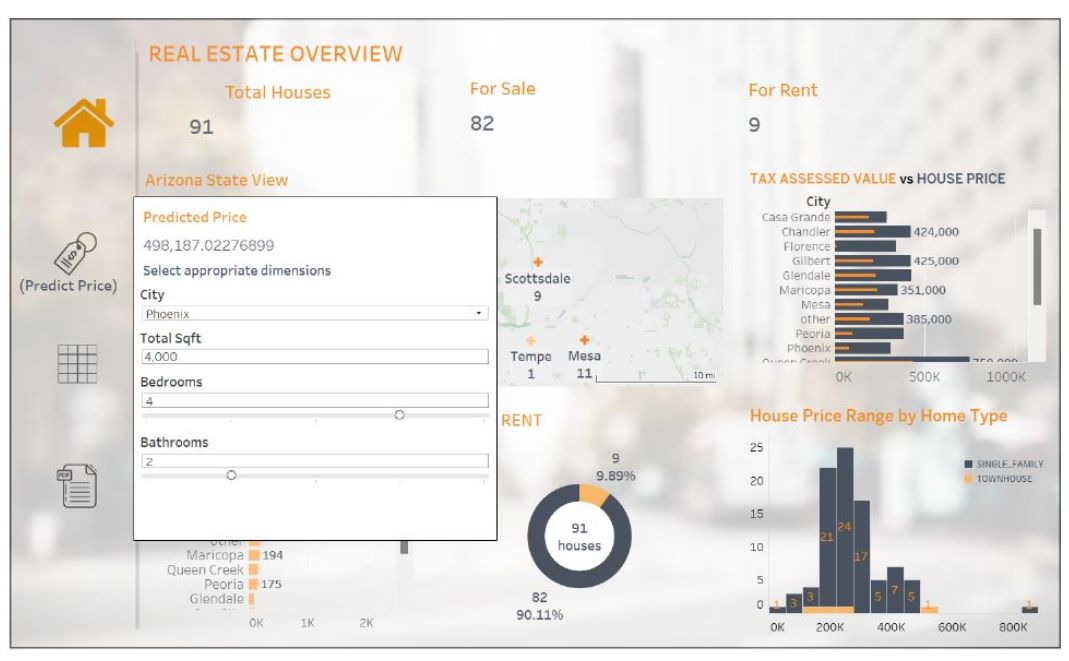

This screenshot's page, from the dashboard's own definition file:
{"tool":"tableau","page":{"name":"REAL ESTATE OVERVIEW","canvas":[1500,900],"ordinal":1},"visuals":[{"type":"image","param":"C:/Users/USER/Documents/ZHP/dashboard.png","box":[8,8,1484,884]},{"type":"text","box":[227,13,701,57]},{"type":"worksheet","title":"overview1","mark":"Automatic","box":[231,105,264,118]},{"type":"worksheet","title":"overview 2","mark":"Automatic","box":[632,108,307,122]},{"type":"worksheet","title":"overview 3","mark":"Automatic","box":[1034,108,332,143]},{"type":"worksheet","title":"Bar in bar","mark":"Automatic","rows":["city"],"box":[1033,211,435,305]},{"type":"worksheet","title":"Map","mark":"Shape","box":[218,213,797,303]},{"type":"worksheet","title":"Predicted Price Parameters","mark":"Automatic","box":[187,267,490,79]},{"type":"dashboard-object","box":[83,308,84,79]},{"type":"text","box":[187,346,490,33]},{"type":"parameter","param":"[Parameters].[Parameter 1]","box":[187,379,490,60]},{"type":"text","box":[55,385,144,30]},{"type":"parameter","param":"[Parameters].[Parameter 3]","box":[187,439,490,60]},{"type":"dashboard-object","box":[77,458,114,94]},{"type":"parameter","param":"[Parameters].[Test Bathrooms (copy)_3160682558038994951]","box":[187,499,490,83]},{"type":"worksheet","title":"Bar graph","mark":"Bar","rows":["city"],"cols":["price_per_sqft"],"box":[221,526,394,335]},{"type":"worksheet","title":"Donut Chart","mark":"Pie","rows":["Calculation_3160682557911240707","Calculation_3160682557911289861"],"box":[628,528,388,324]},{"type":"worksheet","title":"Histogram","mark":"Automatic","rows":["taxAssessedValue"],"cols":["Tax Assessed Value (bin)"],"box":[1038,531,455,329]},{"type":"parameter","param":"[Parameters].[Parameter 4]","box":[187,582,490,83]},{"type":"dashboard-object","box":[71,612,126,115]},{"type":"dashboard-object","box":[45,613,91,92]},{"type":"legend","title":"Histogram","param":"[federated.0l6pls20bws94s1bhkdpa1ribdjo].[none:homeType:nk]","box":[1319,619,143,49]}]}

Visuals, with their boxes in screenshot pixels (x1, y1, x2, y2), scaled from the page's 1500x900 canvas onto the 1069x661 screenshot:
image: locate(6, 6, 1063, 655)
text: locate(162, 10, 661, 51)
"overview1" worksheet: locate(165, 77, 353, 164)
"overview 2" worksheet: locate(450, 79, 669, 169)
"overview 3" worksheet: locate(737, 79, 974, 184)
"Bar in bar" worksheet: locate(736, 155, 1046, 379)
"Map" worksheet (Shape marks): locate(155, 156, 723, 379)
"Predicted Price Parameters" worksheet: locate(133, 196, 482, 254)
dashboard-object: locate(59, 226, 119, 284)
text: locate(133, 254, 482, 278)
parameter: locate(133, 278, 482, 322)
text: locate(39, 283, 142, 305)
parameter: locate(133, 322, 482, 366)
dashboard-object: locate(55, 336, 136, 405)
parameter: locate(133, 366, 482, 427)
"Bar graph" worksheet (Bar marks): locate(157, 386, 438, 632)
"Donut Chart" worksheet (Pie marks): locate(448, 388, 724, 626)
"Histogram" worksheet: locate(740, 390, 1064, 632)
parameter: locate(133, 427, 482, 488)
dashboard-object: locate(51, 449, 140, 534)
dashboard-object: locate(32, 450, 97, 518)
"Histogram" legend: locate(940, 455, 1042, 491)
